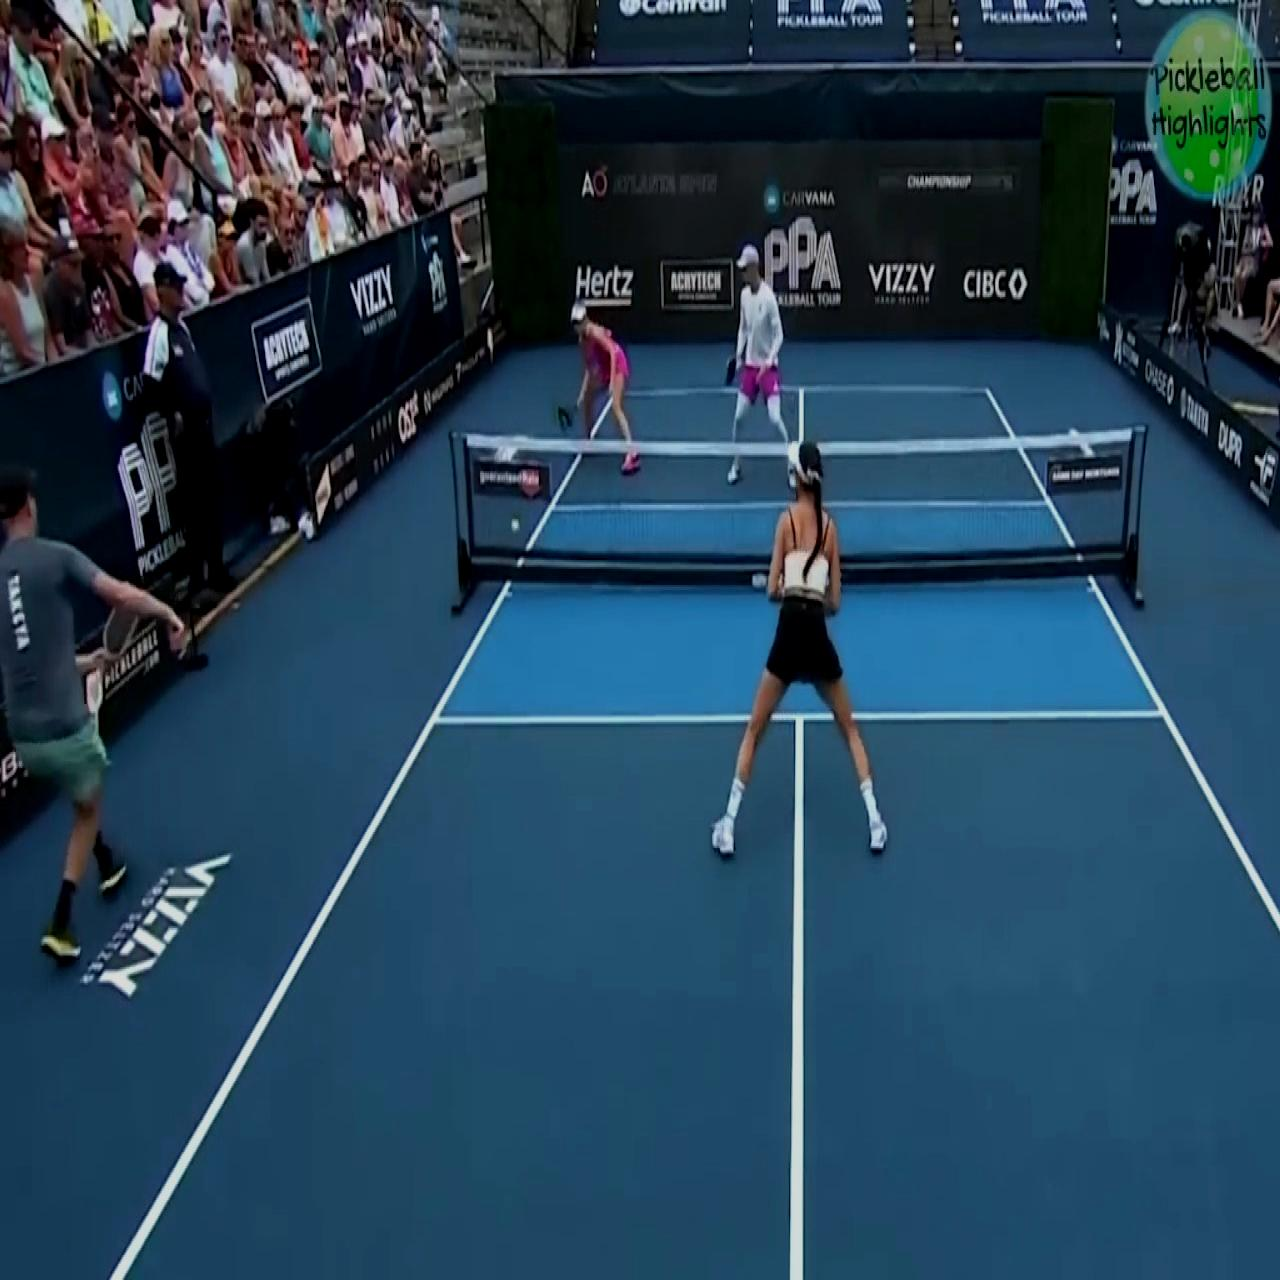Pickleball: (508, 510, 520, 535)
